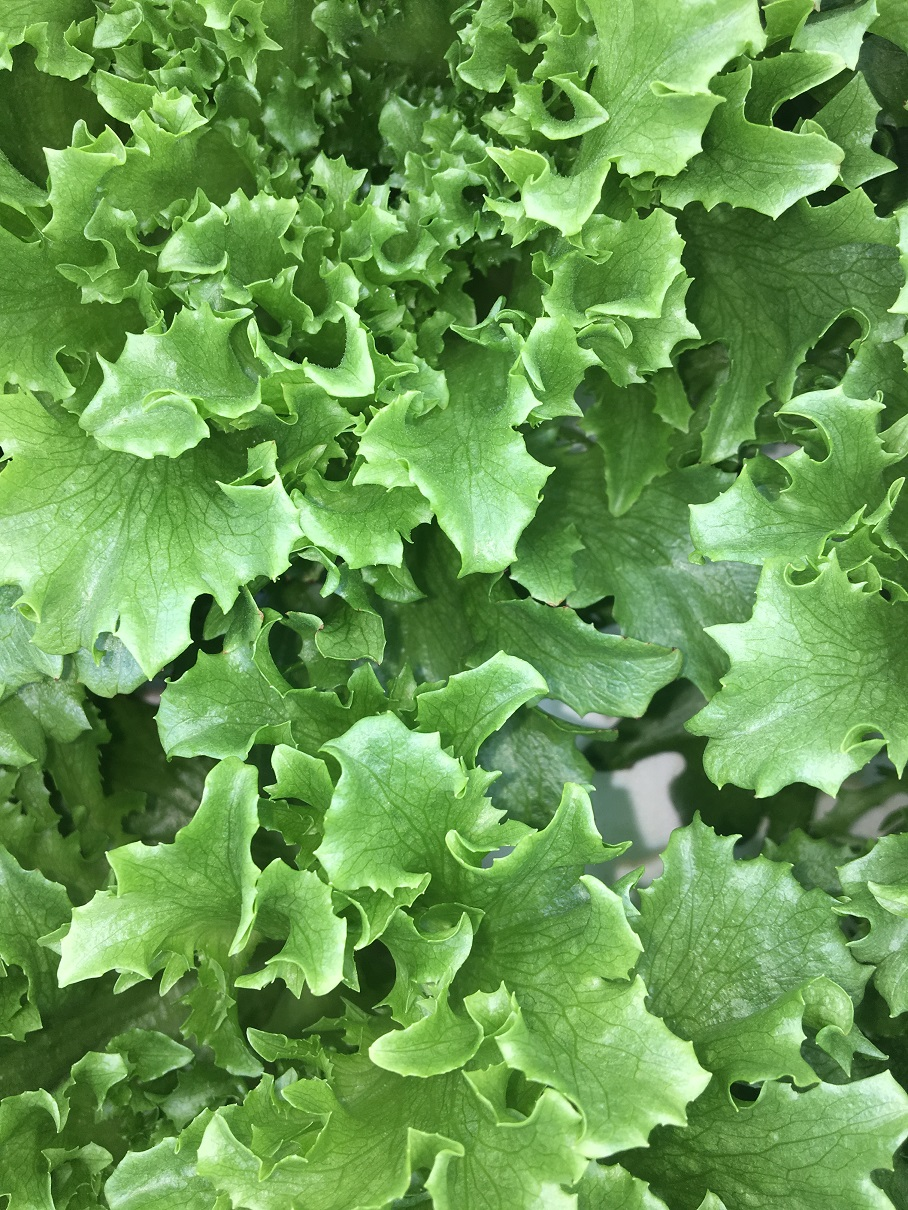tipburn: (659, 628, 696, 668), (547, 590, 582, 626), (612, 621, 641, 655)
